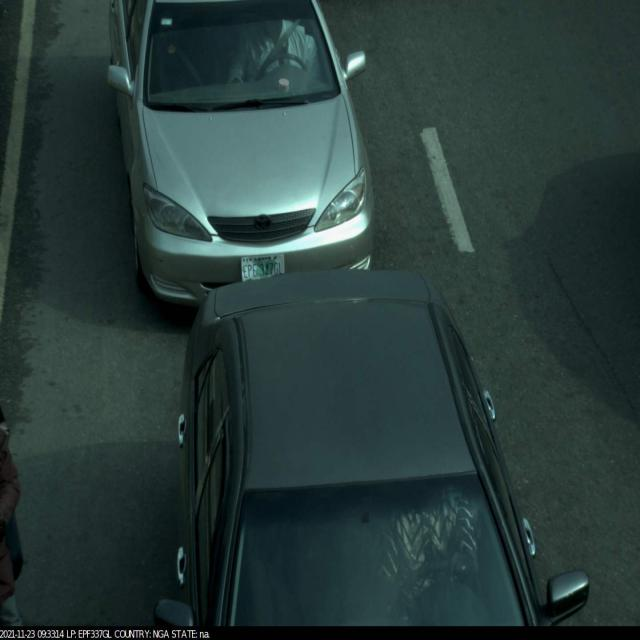windshield: (205, 470, 525, 628), (142, 2, 351, 117)
